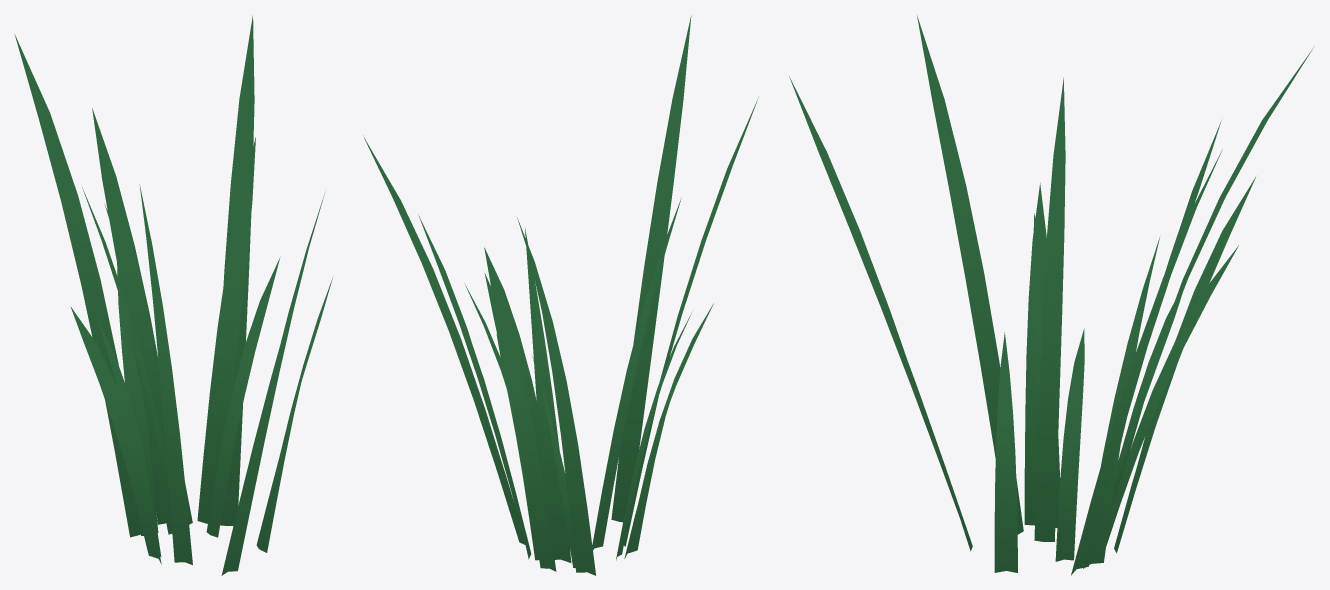
The model's file is pondweed1.gltf.
3 views of the same model, side by side, from view 1: azimuth 30°, elevation 25°; view 2: azimuth 150°, elevation 25°; view 3: azimuth 270°, elevation 25° (orthographic). The views are drawn at different scales.
Visible parts, largest first — view 1: pondweed1_blade_LOD0; view 2: pondweed1_blade_LOD0; view 3: pondweed1_blade_LOD0.
Part boxes in pixels (x1,y1,x2,y2): pondweed1_blade_LOD0: (14,15,332,575); pondweed1_blade_LOD0: (364,15,758,575); pondweed1_blade_LOD0: (789,15,1314,575).
Size of what is drawn, in the model's own units: 0.5357 by 0.8474 by 0.8443.
